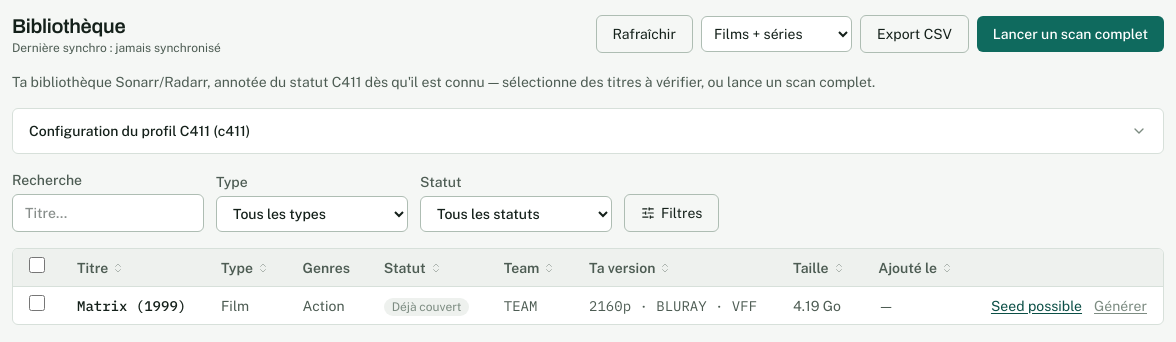
Test case: LibraryPage › 'Seed possible' lance le job, affiche le resultat DONE
Expected: the text "Matrix (1999)" is shown, left=61, top=286, right=205, bottom=324
Click the button "Seed possible".
click(1037, 306)  # box left=991, top=296, right=1082, bottom=316
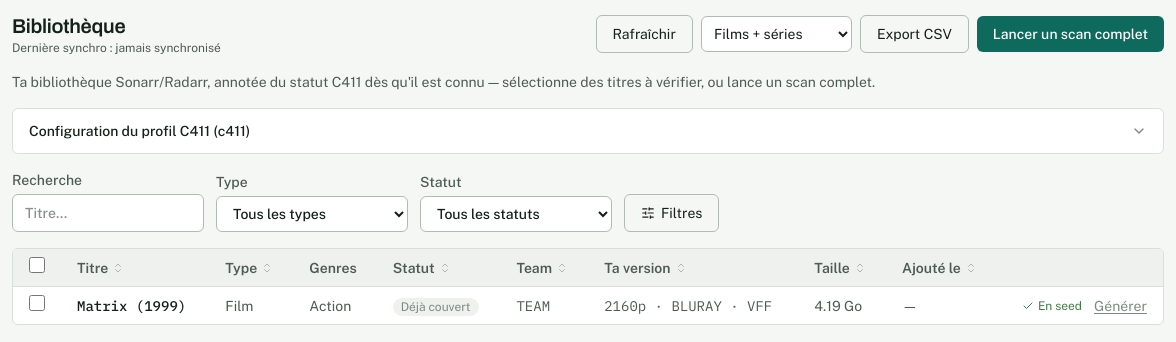
Result: the text "En seed" is shown at left=1022, top=298, right=1082, bottom=314
